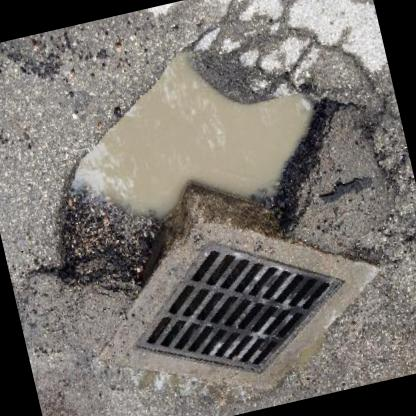pothole: (12, 19, 369, 314)
